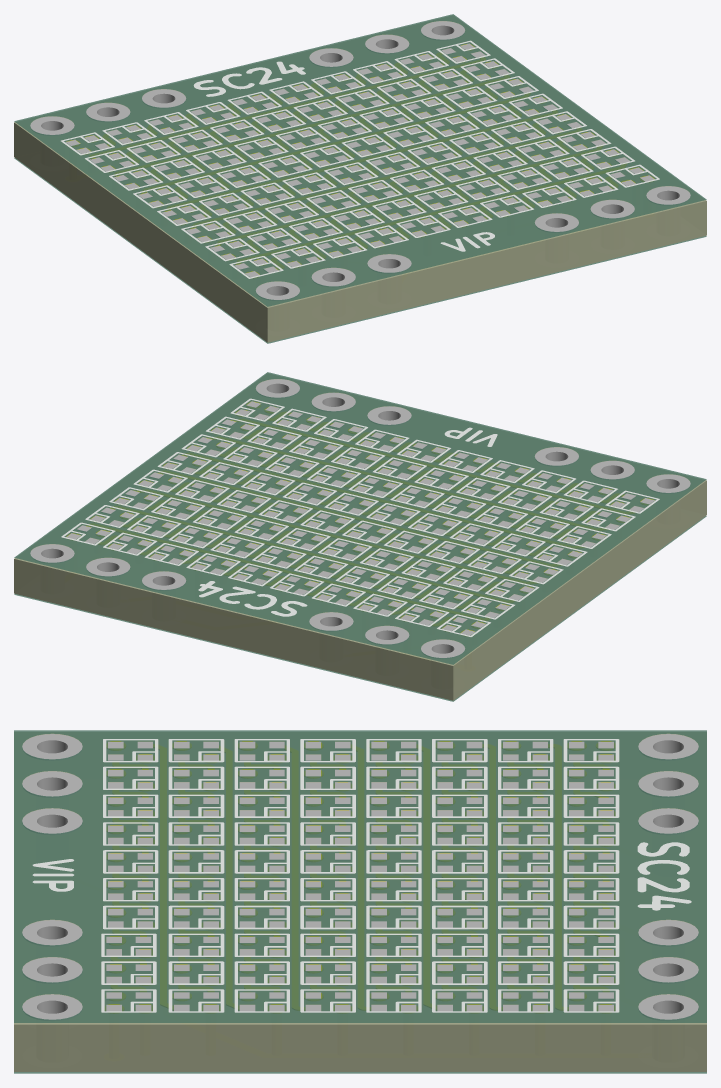
The model's file is people-staff-neo-minibadge.glb.
3 renders of one model, top to bottom at view 1: azimuth 30°, elevation 25°; view 2: azimuth 150°, elevation 25°; view 3: azimuth 270°, elevation 25°, orthographic. The views are drawn at different scales.
Parts seen in each view (by area): view 1: =>[0:1:1:7], =>[0:1:1:9], =>[0:1:1:2], =>[0:1:1:5]; view 2: =>[0:1:1:7], =>[0:1:1:9], =>[0:1:1:2], =>[0:1:1:5]; view 3: =>[0:1:1:7], =>[0:1:1:9], =>[0:1:1:2], =>[0:1:1:5].
Part boxes in pixels (left/top/right/bottom): =>[0:1:1:7]: left=14, top=14, right=706, bottom=343; =>[0:1:1:9]: left=14, top=16, right=706, bottom=342; =>[0:1:1:2]: left=30, top=21, right=690, bottom=300; =>[0:1:1:5]: left=61, top=40, right=659, bottom=278; =>[0:1:1:7]: left=14, top=372, right=706, bottom=701; =>[0:1:1:9]: left=14, top=374, right=706, bottom=700; =>[0:1:1:2]: left=30, top=379, right=690, bottom=658; =>[0:1:1:5]: left=61, top=398, right=659, bottom=636; =>[0:1:1:7]: left=14, top=730, right=706, bottom=1073; =>[0:1:1:9]: left=14, top=732, right=706, bottom=1071; =>[0:1:1:2]: left=22, top=734, right=698, bottom=1020; =>[0:1:1:5]: left=32, top=739, right=691, bottom=1012.
Size of the model in its own units: 0.02 by 0.00166 by 0.02.
4 materials, 4 textured.
